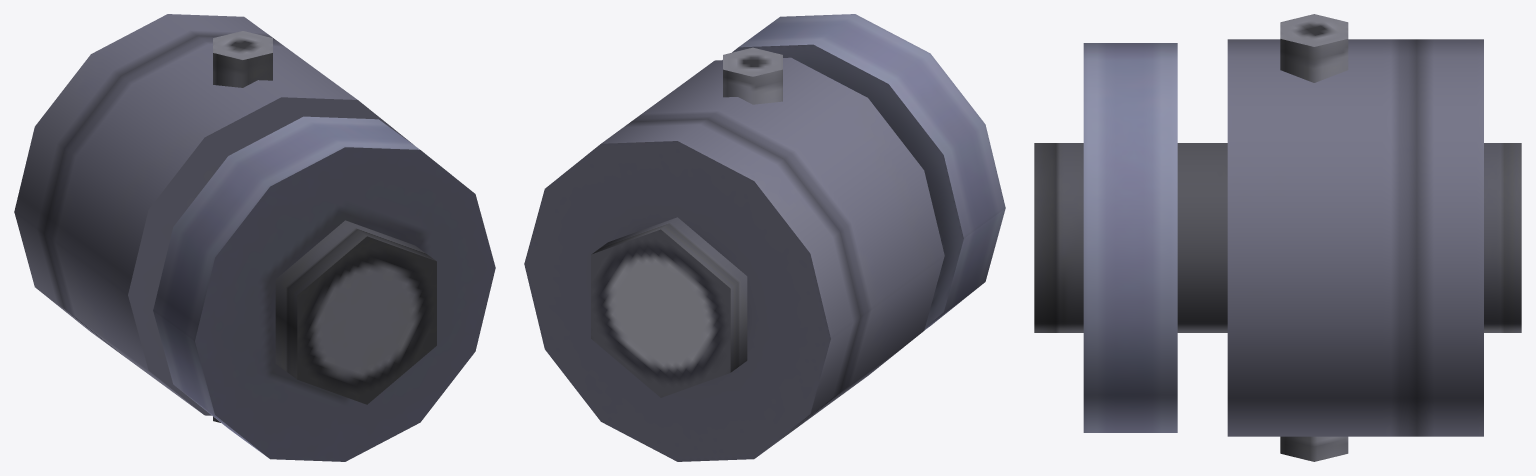
The model's file is obj_interactive_suspensionsport_on.fbx.
3 renders of one model, left to right at view 1: azimuth 30°, elevation 25°; view 2: azimuth 150°, elevation 25°; view 3: azimuth 270°, elevation 25°, orthographic. The views are drawn at different scales.
Parts seen in each view (by area): view 1: obj_interactive_suspensionsport_on_lod0; view 2: obj_interactive_suspensionsport_on_lod0; view 3: obj_interactive_suspensionsport_on_lod0.
Boxes of the visible parts, x1,y1,x2,y2 form: obj_interactive_suspensionsport_on_lod0: [14, 14, 495, 461]; obj_interactive_suspensionsport_on_lod0: [524, 14, 1005, 461]; obj_interactive_suspensionsport_on_lod0: [1034, 14, 1521, 461].
Size of the model in its own units: 0.9959 by 1.14 by 1.22.
Materials: 1 (1 with a texture image).
